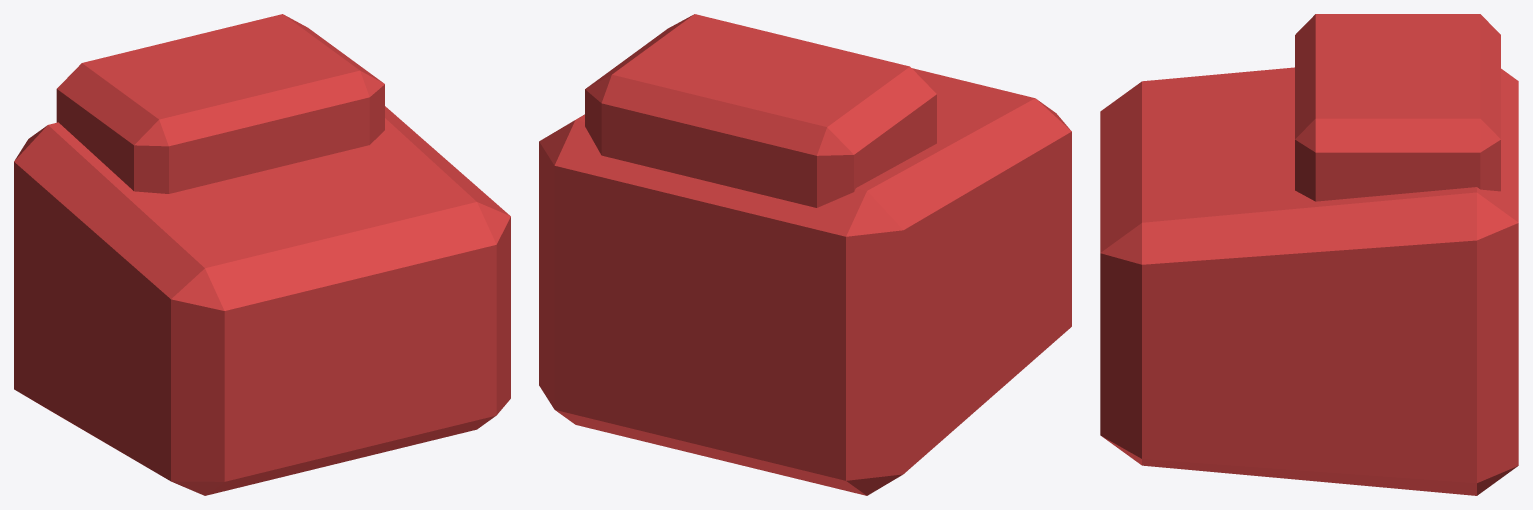
The model's file is RedBeanbag.fbx.
The picture shows the model from 3 angles, left to right: view 1: azimuth 30°, elevation 25°; view 2: azimuth 150°, elevation 25°; view 3: azimuth 270°, elevation 25°; orthographic projection. The views are drawn at different scales.
Parts seen in each view (by area): view 1: RedBeanbag; view 2: RedBeanbag; view 3: RedBeanbag.
Part boxes in pixels (left/top/right/bottom): RedBeanbag: left=14, top=14, right=510, bottom=495; RedBeanbag: left=539, top=14, right=1071, bottom=495; RedBeanbag: left=1100, top=14, right=1518, bottom=495.
Size of the model in its own units: 2.6 by 2.46 by 2.6.
1 material, 1 textured.
